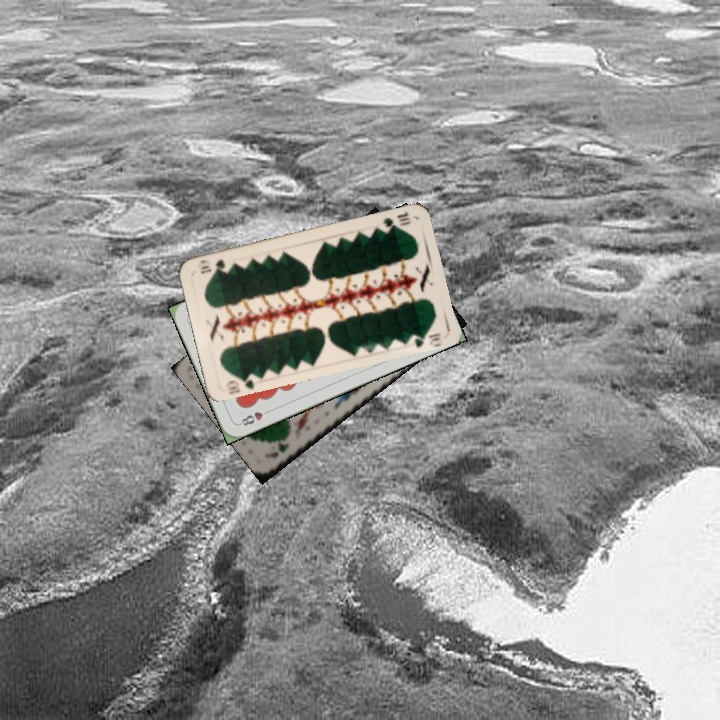G10: (376, 208, 413, 234), (222, 370, 260, 395)
GK: (266, 439, 292, 458)
H8: (235, 406, 274, 429)
